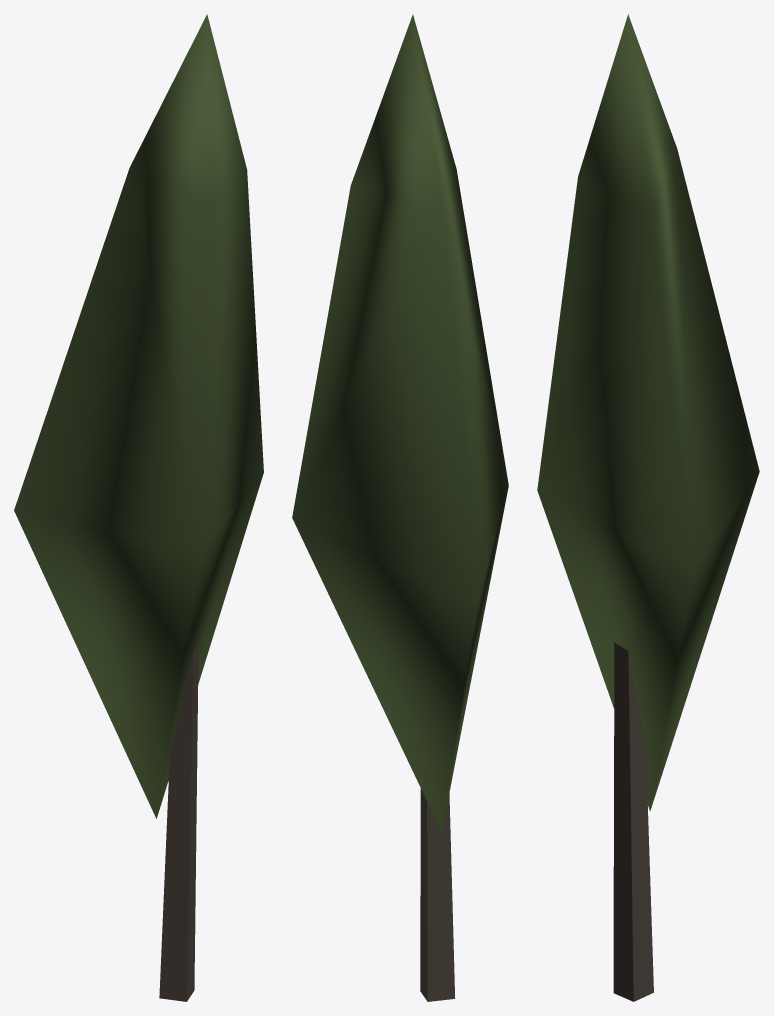
File: tall_columnar_lod2.glb
3 views of the same model, side by side, from view 1: azimuth 30°, elevation 25°; view 2: azimuth 150°, elevation 25°; view 3: azimuth 270°, elevation 25° (orthographic). The views are drawn at different scales.
Visible parts, largest first — view 1: tall_columnar_LOD2; view 2: tall_columnar_LOD2; view 3: tall_columnar_LOD2.
Part boxes in pixels (x1,y1,x2,y2): tall_columnar_LOD2: (14,14,263,1001); tall_columnar_LOD2: (292,14,508,1001); tall_columnar_LOD2: (537,14,759,1001).
Bounding box in the file's own units: 2.98 × 12.76 × 2.59.
